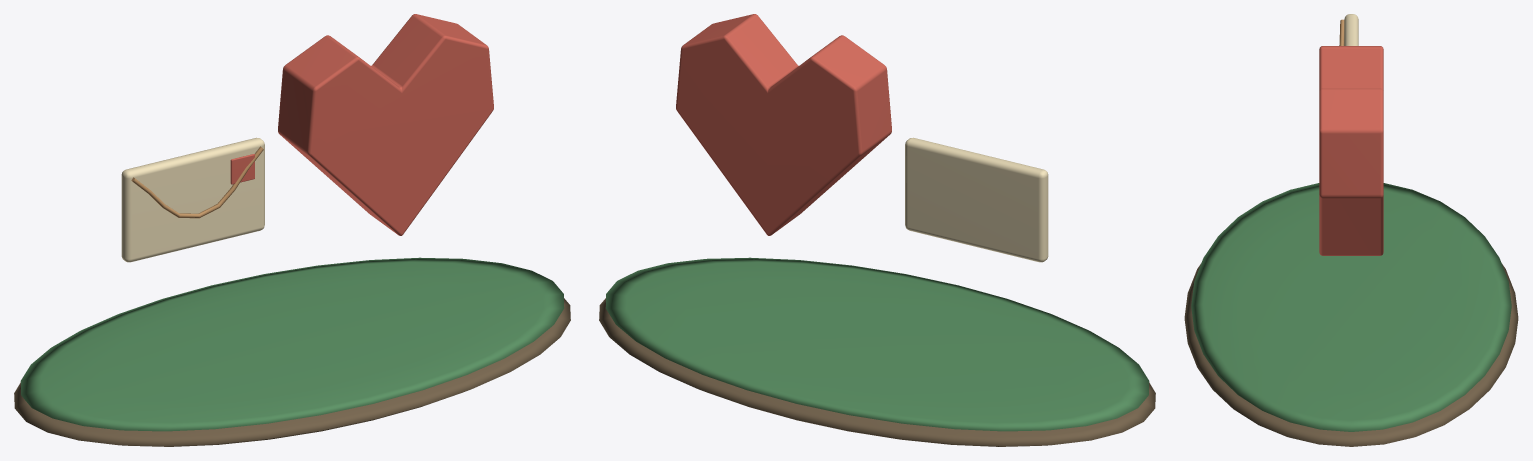
Rendered from trusted-heart.glb.
The picture shows the model from 3 angles, left to right: view 1: azimuth 30°, elevation 25°; view 2: azimuth 150°, elevation 25°; view 3: azimuth 270°, elevation 25°; orthographic projection.
Visible parts, largest first — view 1: trusted-heart_surface_01, trusted-heart_surface_04, trusted-heart_surface_02, trusted-heart_surface_00, trusted-heart_surface_03; view 2: trusted-heart_surface_01, trusted-heart_surface_04, trusted-heart_surface_02, trusted-heart_surface_00; view 3: trusted-heart_surface_01, trusted-heart_surface_04, trusted-heart_surface_00, trusted-heart_surface_02.
Boxes of the visible parts, x1,y1,x2,y2 form: trusted-heart_surface_01: (20,257,564,431); trusted-heart_surface_04: (230,14,493,235); trusted-heart_surface_02: (121,137,264,262); trusted-heart_surface_00: (14,298,570,446); trusted-heart_surface_03: (131,146,263,218); trusted-heart_surface_01: (605,257,1149,431); trusted-heart_surface_04: (676,14,891,235); trusted-heart_surface_02: (905,137,1048,262); trusted-heart_surface_00: (599,298,1155,446); trusted-heart_surface_01: (1191,183,1511,431); trusted-heart_surface_04: (1319,46,1383,255); trusted-heart_surface_00: (1184,264,1518,446); trusted-heart_surface_02: (1344,14,1358,45).
Size of the model in its own units: 4.56 by 2.57 by 2.5.
